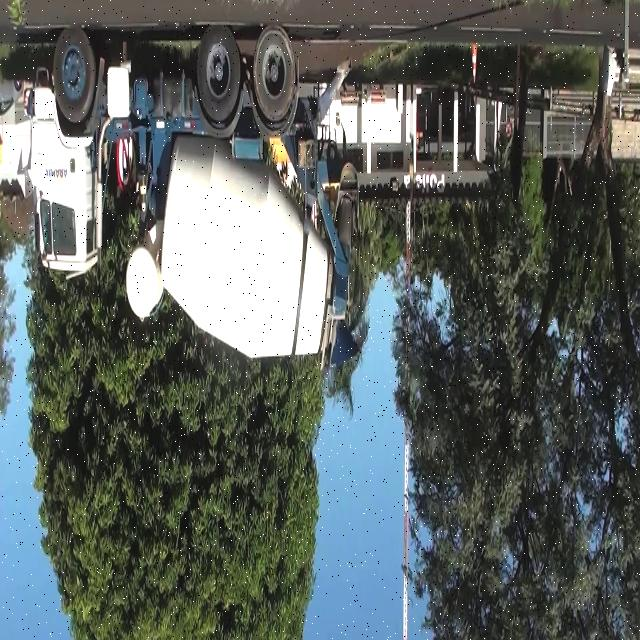-axle: (198, 22, 242, 122), (52, 24, 94, 119), (253, 25, 295, 119)
